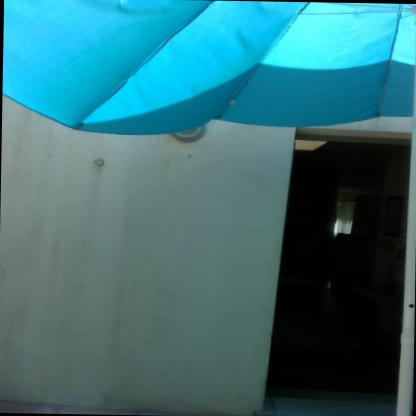open: (254, 122, 415, 415)
